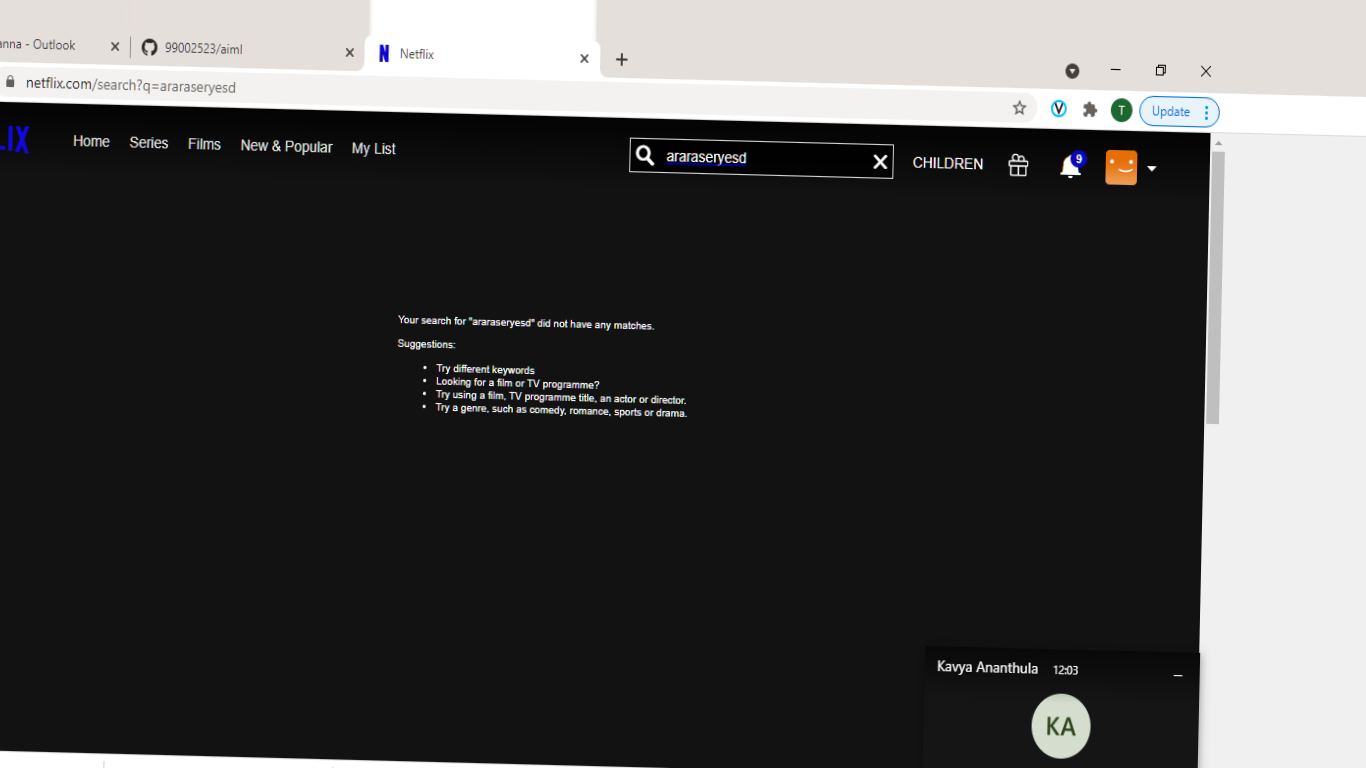mywatchlistbutton: (344, 125, 407, 168)
noresultsfound: (371, 294, 694, 437)
profileicon: (1096, 140, 1177, 189)
searchicon: (626, 135, 668, 181)
searchtextbox: (620, 129, 901, 183)
